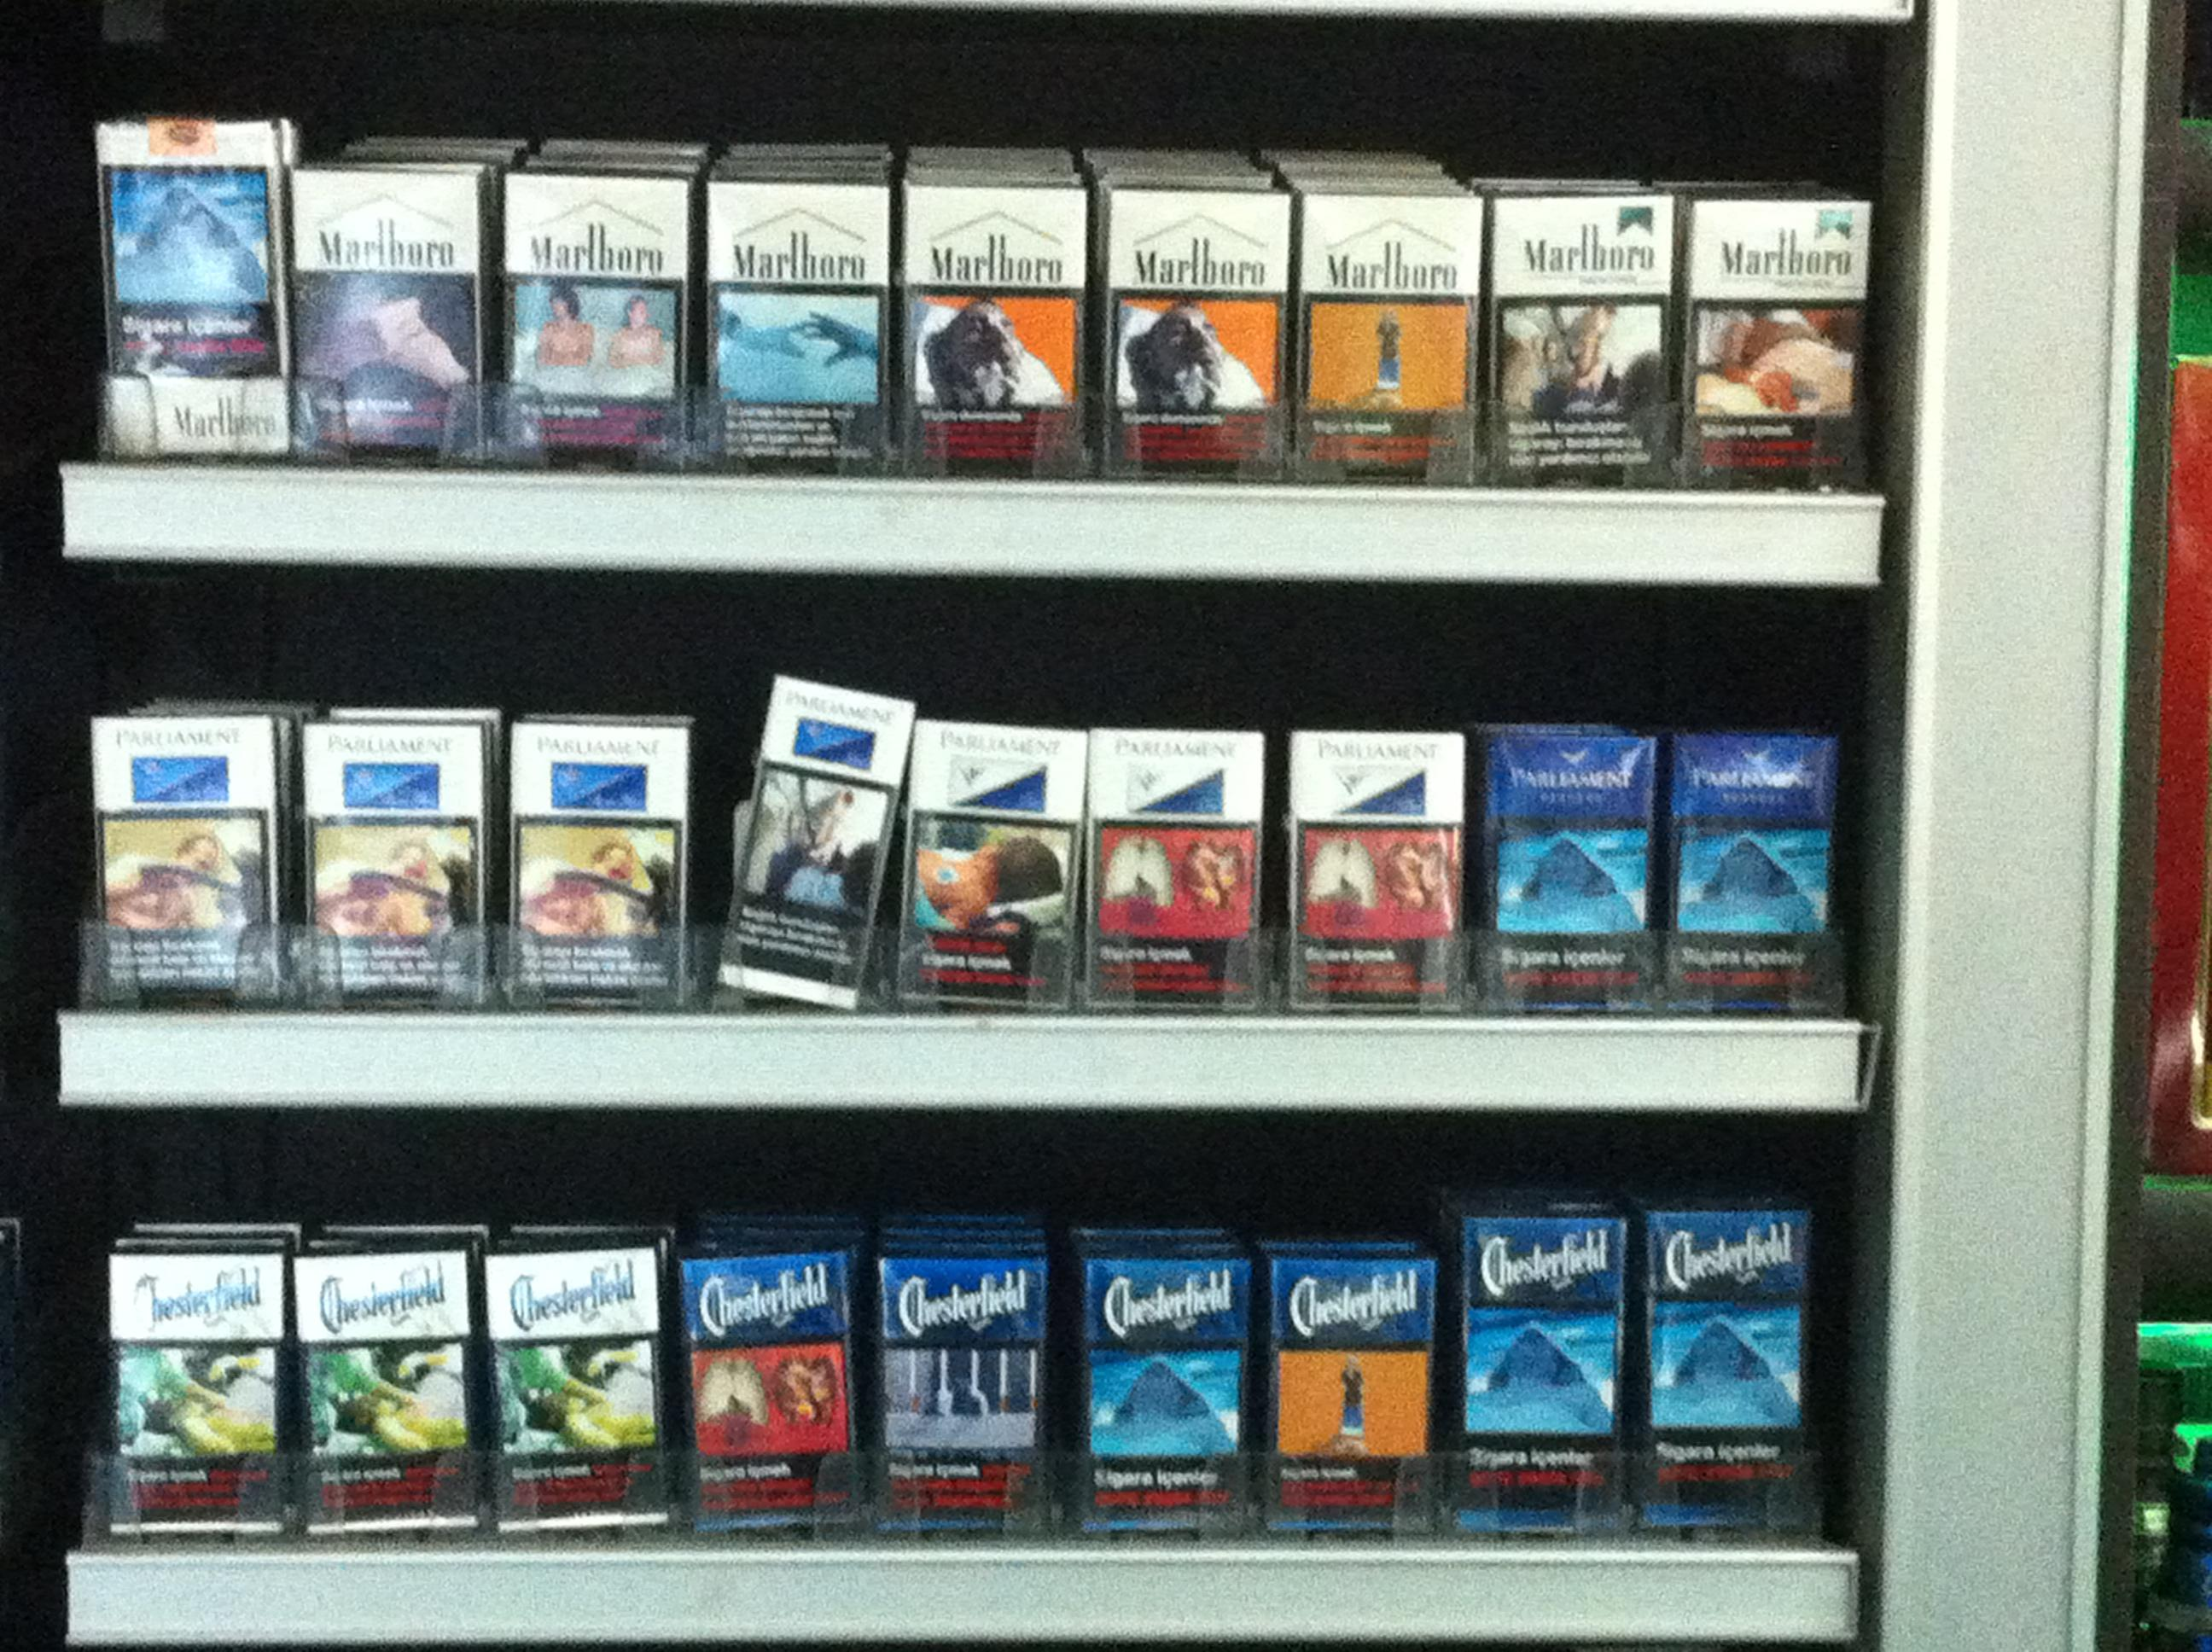product: (97, 106, 302, 455), (885, 172, 1093, 482), (888, 708, 1096, 1019), (1090, 165, 1298, 475), (1287, 168, 1495, 479), (1482, 175, 1690, 486), (1693, 179, 1901, 489), (285, 158, 493, 469), (482, 158, 690, 469), (697, 158, 906, 469), (87, 680, 295, 991), (298, 698, 507, 1008), (493, 698, 701, 1008), (1058, 1230, 1247, 1557), (106, 1237, 295, 1563), (850, 1234, 1039, 1560), (1072, 715, 1277, 1015), (1280, 708, 1485, 1008), (1466, 715, 1671, 1015), (1650, 718, 1855, 1019), (1258, 1242, 1445, 1570), (1449, 1209, 1636, 1537), (1636, 1203, 1823, 1531), (295, 1237, 482, 1563), (479, 1227, 666, 1553), (677, 1223, 864, 1550), (737, 670, 916, 998)
